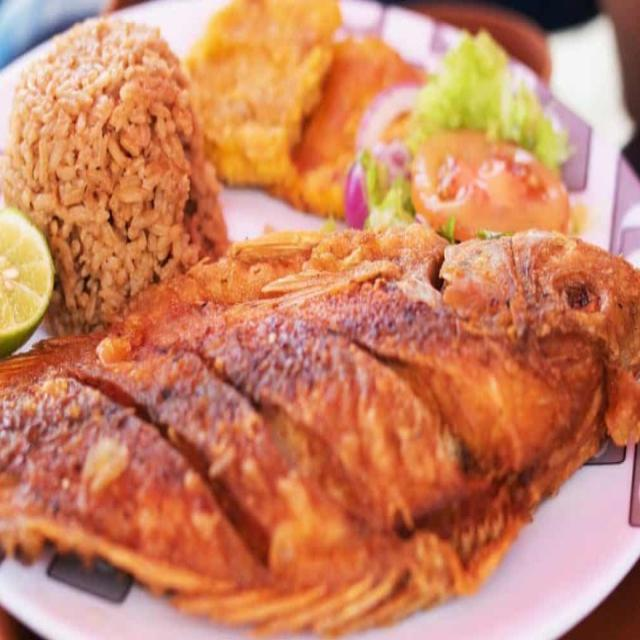FISH FRY: (0, 225, 639, 635)
RICE: (4, 20, 228, 334)
